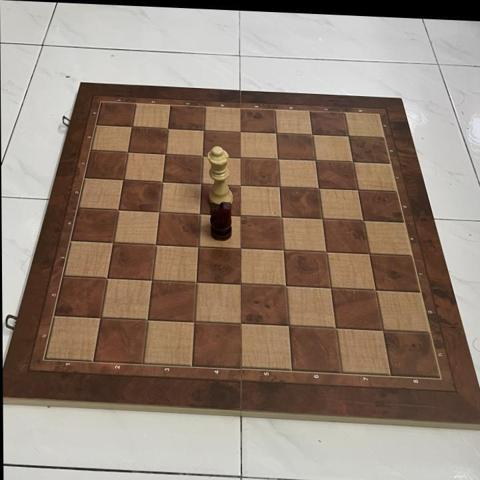xcorner: (123, 118, 140, 135), (306, 151, 323, 168), (231, 148, 248, 165), (156, 145, 173, 162), (231, 176, 248, 193), (192, 174, 209, 191), (110, 201, 127, 218), (232, 239, 249, 256), (303, 125, 319, 142), (267, 124, 283, 141), (195, 121, 211, 138), (268, 150, 285, 166), (119, 144, 136, 160), (310, 179, 326, 196), (270, 178, 287, 194), (115, 171, 131, 188), (354, 212, 371, 228), (313, 210, 330, 226), (273, 208, 289, 225), (232, 206, 248, 223), (191, 205, 208, 221), (318, 243, 334, 260), (275, 241, 291, 258), (147, 236, 164, 252), (367, 282, 384, 298), (322, 280, 339, 296), (188, 274, 205, 290), (99, 270, 116, 286), (375, 322, 391, 339), (328, 320, 344, 337), (280, 318, 297, 334), (233, 316, 250, 332), (186, 314, 203, 330), (140, 311, 156, 328), (93, 309, 109, 326), (339, 127, 355, 143), (231, 123, 247, 139), (159, 120, 175, 136), (344, 153, 360, 169), (194, 147, 210, 163), (349, 181, 365, 197), (154, 173, 170, 189), (151, 203, 167, 219), (361, 245, 377, 261), (190, 238, 206, 254), (105, 234, 121, 250), (278, 278, 294, 294), (233, 276, 249, 292), (144, 272, 160, 288)
